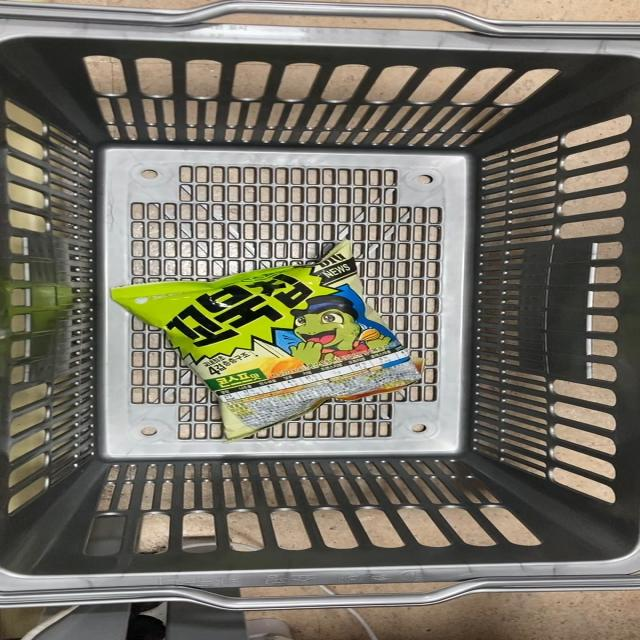ggobukchip: (123, 235, 425, 424)
